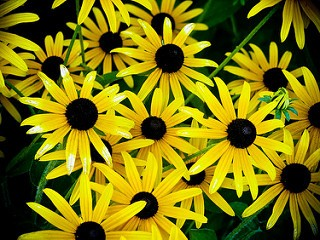flower: (18, 65, 138, 184), (182, 75, 293, 200), (83, 145, 210, 240), (108, 16, 220, 115), (13, 177, 164, 240), (238, 124, 320, 240), (110, 87, 201, 181), (222, 40, 315, 118), (63, 7, 149, 76), (282, 65, 320, 162)
